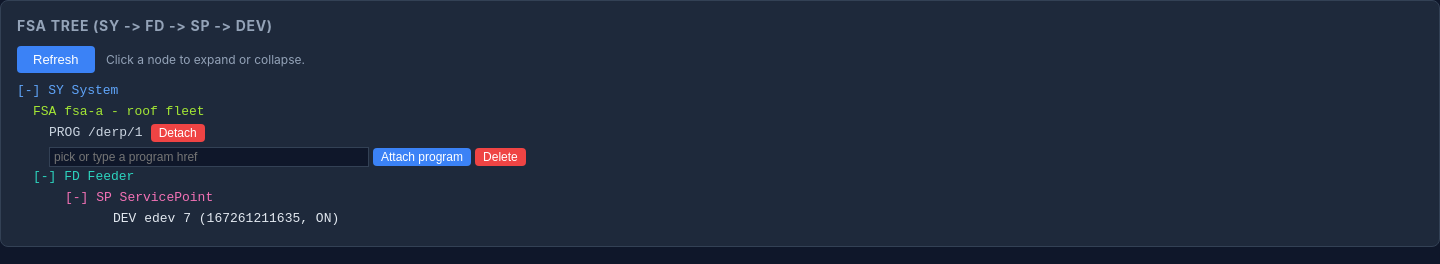
it: TopologyTree › program picker › attaches the href picked from the list and keeps the result span
Type "/edev/7/fsa/fsa-a/derp/derp-1" into the field with id "attachInp-fsa-a".
click(209, 157); type("/edev/7/fsa/fsa-a/derp/derp-1")  # box [49,147,369,167]
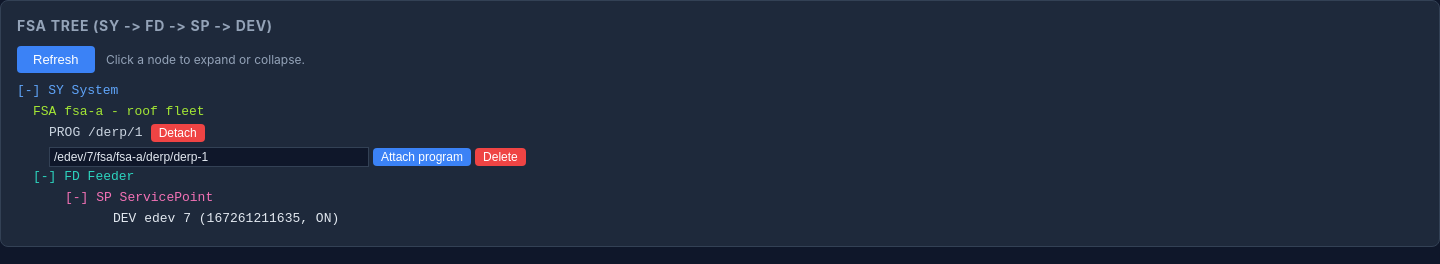
Click the button "Attach program".
click(422, 157)  # box [373,148,471,166]
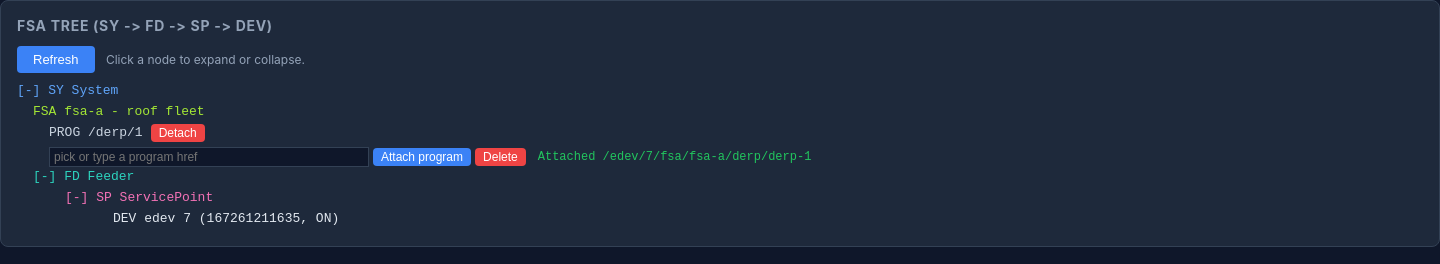
expect the text with id "attachResult-fsa-a" reads "Attached /edev/7/fsa/fsa-a/derp/derp-1": met, box [538,150,811,164]
